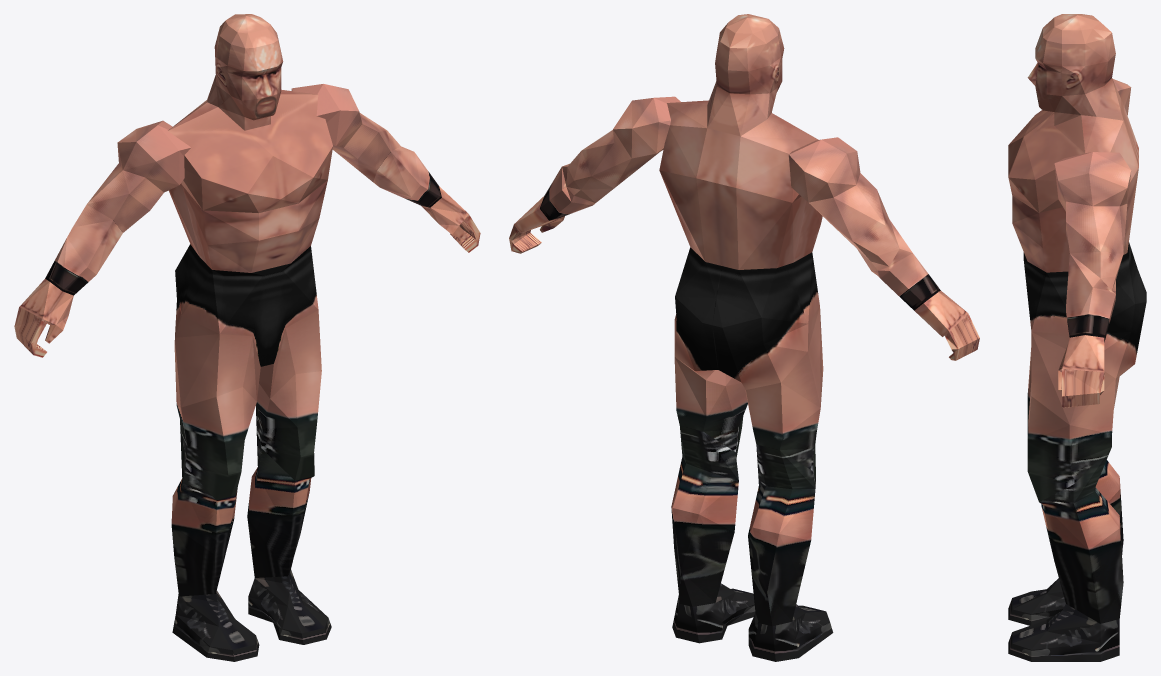
The model's file is austin.glb.
3 renders of one model, left to right at view 1: azimuth 30°, elevation 25°; view 2: azimuth 150°, elevation 25°; view 3: azimuth 270°, elevation 25°, orthographic.
Parts seen in each view (by area): view 1: chest, leg_upper_left, pelvis, Leg_upper_right, torso, arm_left, leg_lower_left, leg_lower_right, arm_right, face, foot_left, foot_right (+7 smaller); view 2: pelvis, back_lower, leg_lower_right, leg_lower_left, back_upper, arm_left, head, leg_upper_left, arm_right, Leg_upper_right, foot_left, foot_right (+6 smaller); view 3: Leg_upper_right, leg_lower_right, arm_right, pelvis, chest, head, foot_right, torso, wrist_right, face, back_upper, foot_left (+5 smaller).
Part boxes in pixels (x1,y1,x2,y2): chest: [168, 94, 332, 212]; leg_upper_left: [174, 316, 256, 499]; pelvis: [175, 244, 318, 400]; Leg_upper_right: [256, 310, 321, 480]; torso: [182, 180, 327, 272]; arm_left: [73, 120, 191, 232]; leg_lower_left: [171, 421, 237, 596]; leg_lower_right: [247, 404, 314, 577]; arm_right: [291, 84, 400, 181]; face: [227, 24, 283, 120]; foot_left: [172, 590, 259, 661]; foot_right: [248, 570, 331, 644]; pelvis: [674, 247, 819, 389]; back_lower: [659, 170, 806, 269]; leg_lower_right: [671, 426, 738, 606]; leg_lower_left: [748, 444, 815, 626]; back_upper: [659, 100, 818, 202]; arm_left: [788, 137, 899, 271]; head: [707, 14, 781, 136]; leg_upper_left: [745, 306, 823, 478]; arm_right: [566, 96, 680, 202]; Leg_upper_right: [674, 357, 747, 458]; foot_left: [748, 604, 833, 661]; foot_right: [672, 583, 755, 643]; Leg_upper_right: [1027, 332, 1119, 502]; leg_lower_right: [1039, 447, 1123, 623]; arm_right: [1054, 152, 1131, 290]; pelvis: [1023, 242, 1146, 378]; chest: [1008, 96, 1084, 212]; head: [1054, 14, 1123, 120]; foot_right: [1008, 604, 1119, 661]; torso: [1012, 195, 1069, 272]; wrist_right: [1066, 253, 1115, 342]; face: [1027, 18, 1061, 111]; back_upper: [1081, 105, 1138, 182]; foot_left: [1008, 578, 1065, 625].
Bounding box in the file's own units: 34.94 × 45.31 × 9.22.
13 materials, 13 textured.
